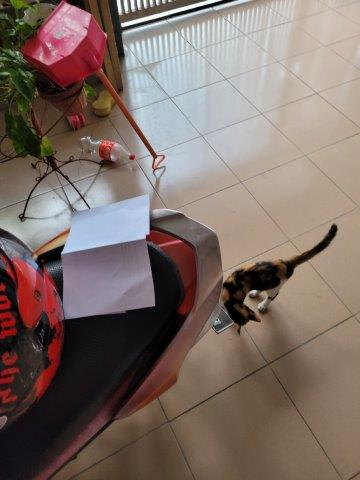botolplastik: (76, 136, 137, 165)
kertas: (60, 195, 155, 317)
